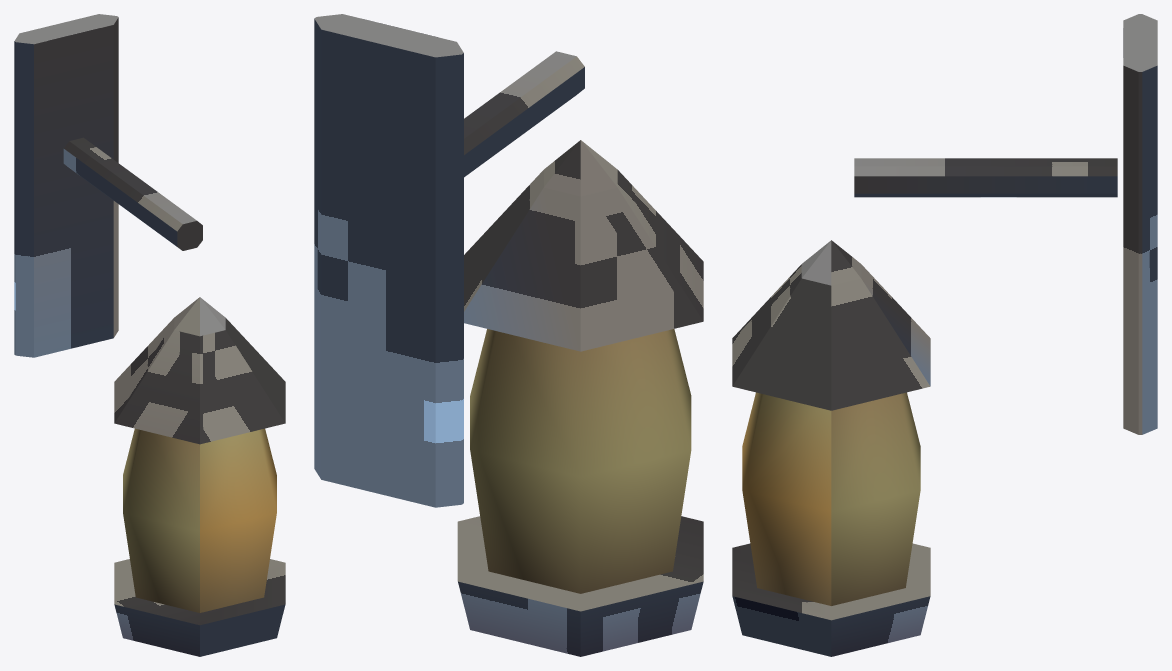
File: wprop.lantern__wall.glb
3 renders of one model, left to right at view 1: azimuth 30°, elevation 25°; view 2: azimuth 150°, elevation 25°; view 3: azimuth 270°, elevation 25°, orthographic. The views are drawn at different scales.
Parts seen in each view (by area): view 1: kit_plate, kit_glass, kit_cap, kit_base, kit_bracket; view 2: kit_plate, kit_glass, kit_cap, kit_base, kit_bracket; view 3: kit_glass, kit_cap, kit_plate, kit_base, kit_bracket.
Part boxes in pixels (<box>): kit_plate: <box>14,14,118,357</box>; kit_glass: <box>123,428,276,612</box>; kit_cap: <box>114,297,285,444</box>; kit_base: <box>114,559,285,656</box>; kit_bracket: <box>63,137,202,250</box>; kit_plate: <box>314,14,463,507</box>; kit_glass: <box>470,329,691,593</box>; kit_cap: <box>464,140,703,351</box>; kit_base: <box>457,516,703,656</box>; kit_bracket: <box>464,51,584,177</box>; kit_glass: <box>742,392,920,605</box>; kit_cap: <box>732,240,930,410</box>; kit_plate: <box>1123,14,1157,434</box>; kit_base: <box>732,543,930,656</box>; kit_bracket: <box>854,158,1117,197</box>.
Bounding box in the file's own units: 0.2 × 0.55 × 0.3716.
3 materials, 2 textured.
